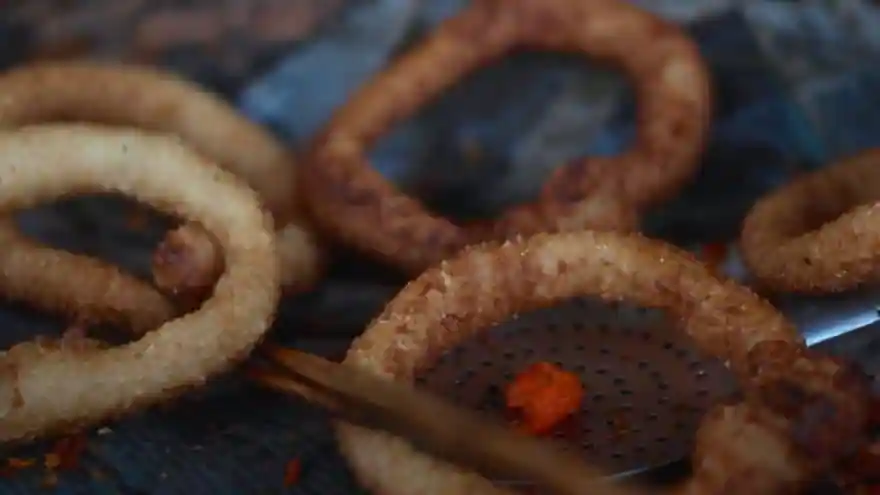sel_roti: (331, 244, 809, 487), (313, 0, 707, 234), (0, 124, 274, 436)
